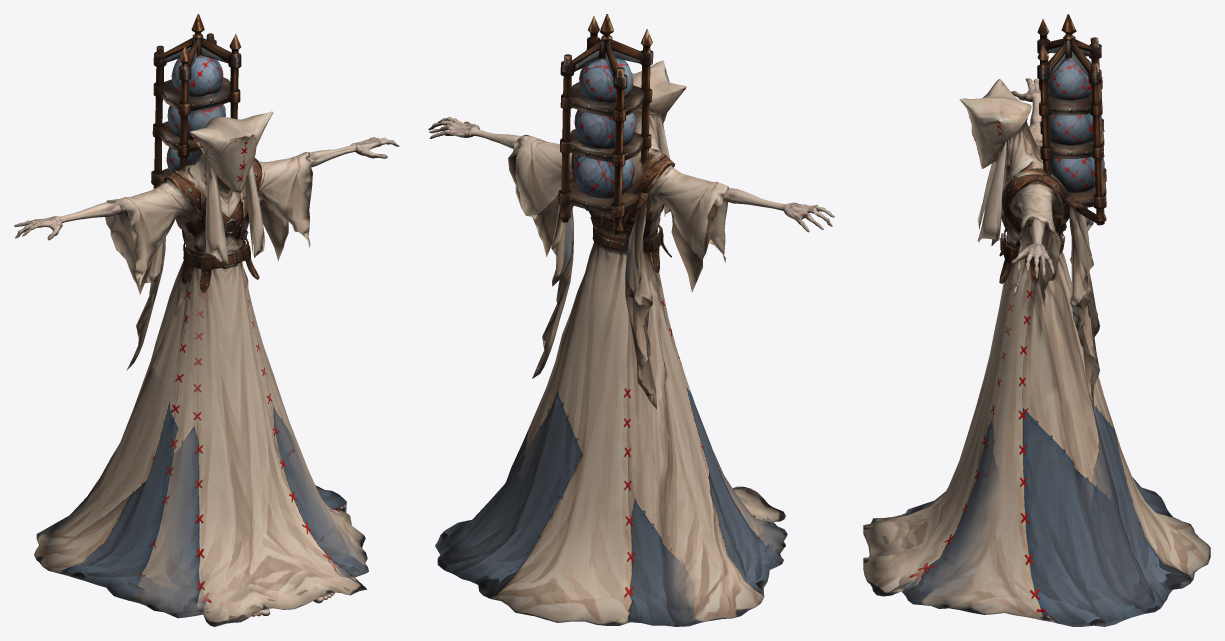
Rendered from B02_lullaby_man.glb.
The picture shows the model from 3 angles, left to right: view 1: azimuth 30°, elevation 25°; view 2: azimuth 150°, elevation 25°; view 3: azimuth 270°, elevation 25°; orthographic projection. The views are drawn at different scales.
Parts seen in each view (by area): view 1: b96be5f4_0f81_49cd_8af5_edf8073a7bf6; view 2: b96be5f4_0f81_49cd_8af5_edf8073a7bf6; view 3: b96be5f4_0f81_49cd_8af5_edf8073a7bf6.
Boxes of the visible parts, left/top/right/bottom form: b96be5f4_0f81_49cd_8af5_edf8073a7bf6: left=14, top=14, right=399, bottom=626; b96be5f4_0f81_49cd_8af5_edf8073a7bf6: left=428, top=14, right=834, bottom=626; b96be5f4_0f81_49cd_8af5_edf8073a7bf6: left=863, top=14, right=1210, bottom=626.
Size of the model in its own units: 0.7632 by 0.9995 by 0.5796.
1 material, 1 textured.
